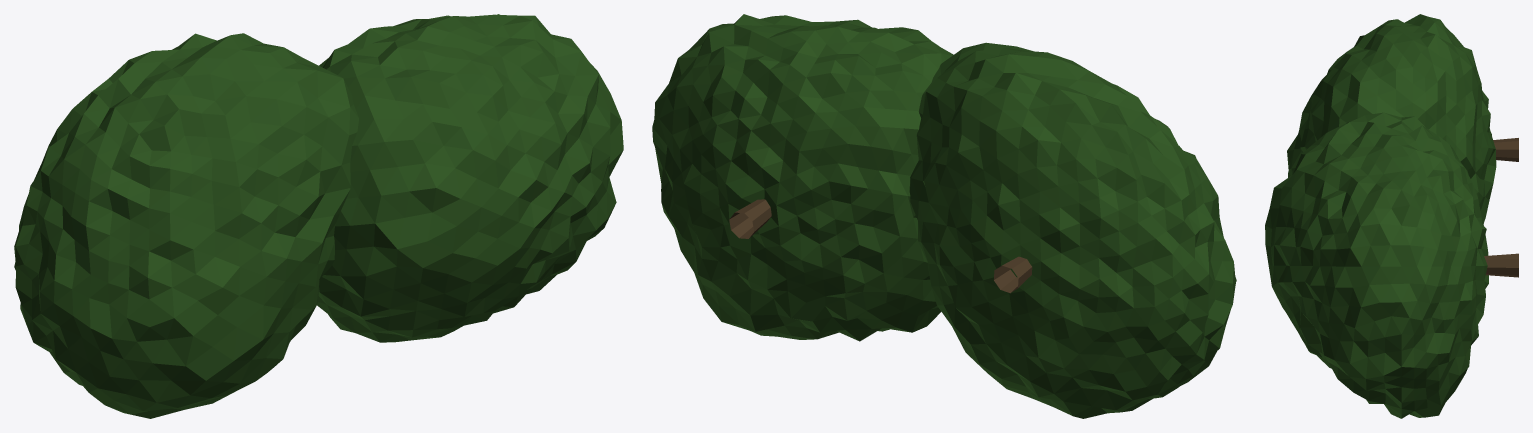
The model's file is citrus_run2_f.obj.
The picture shows the model from 3 angles, left to right: view 1: azimuth 30°, elevation 25°; view 2: azimuth 150°, elevation 25°; view 3: azimuth 270°, elevation 25°; orthographic projection. The views are drawn at different scales.
Parts seen in each view (by area): view 1: canopy; view 2: canopy, trunk; view 3: canopy, trunk.
Part boxes in pixels (x1,y1,x2,y2): canopy: (14, 14, 623, 418); canopy: (652, 14, 1236, 418); trunk: (729, 199, 1032, 293); canopy: (1265, 14, 1496, 418); trunk: (1484, 138, 1518, 277).
Bounding box in the file's own units: 6.45 × 3.68 × 3.02.
